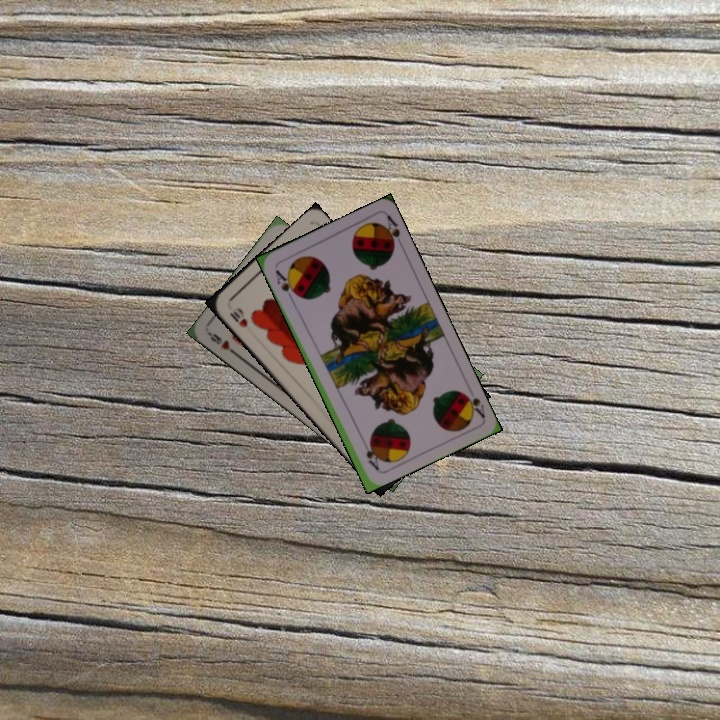H10: (225, 307, 250, 330)
H9: (205, 329, 240, 358)
SA: (271, 266, 300, 302), (457, 388, 488, 421)
